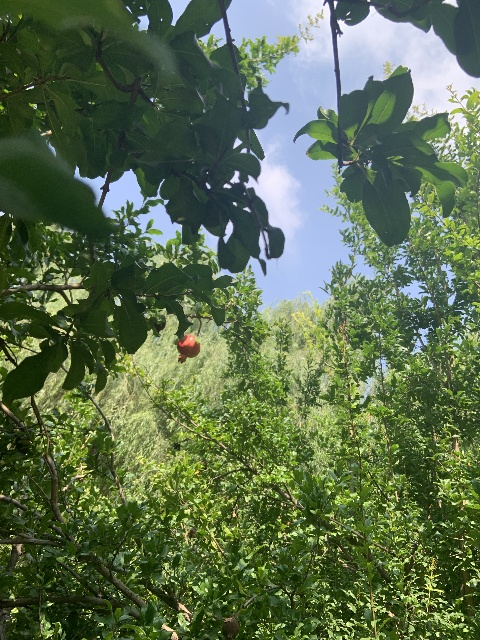flower: (176, 334, 200, 363)
